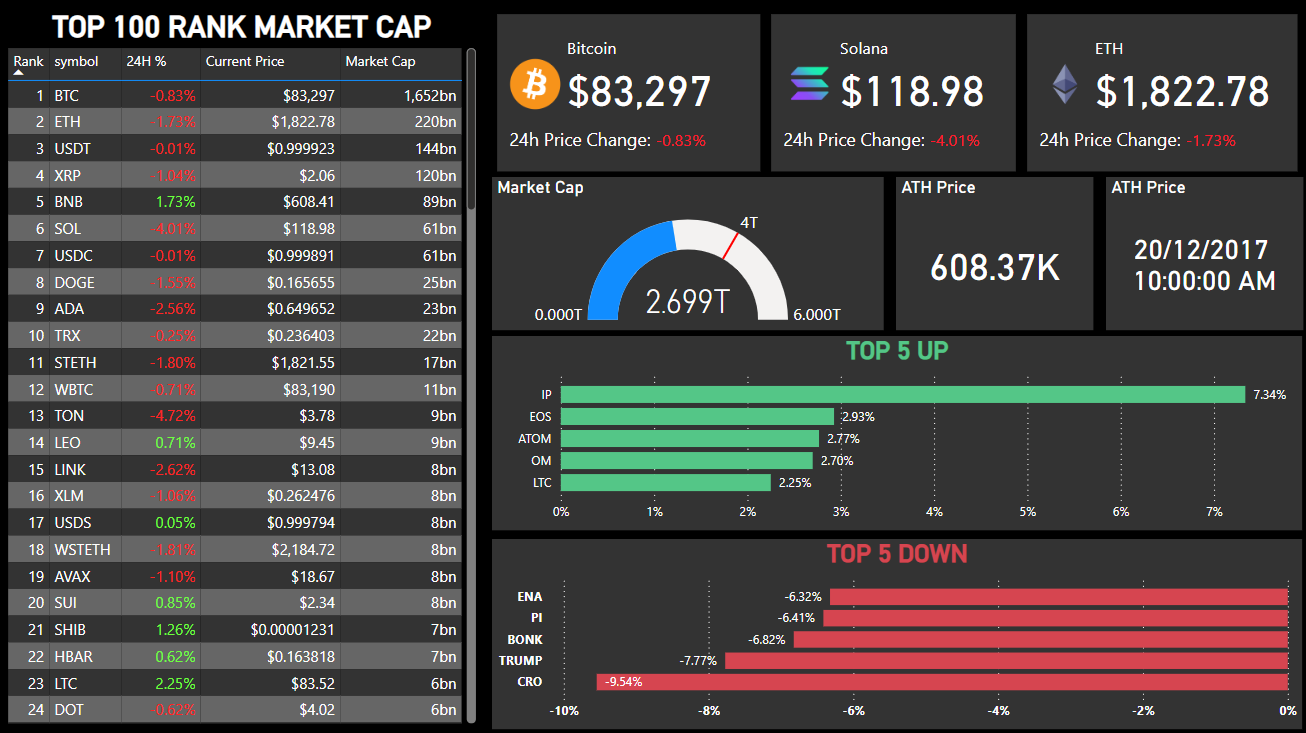

Layout of this report page (visuals, bound fields, positions):
{"tool":"powerbi","page":{"name":"Market","canvas":[1280,720],"ordinal":0},"visuals":[{"type":"tableEx","title":"TOP 100 RANK MARKET CAP","fields":{"Values":["Sum(CryptoMarket USD.rank)","CryptoMarket USD.symbol","CryptoMarket USD.24 price change percentage","Sum(CryptoMarket USD.current_price)","Sum(CryptoMarket USD.market_cap)"]},"box":[6.8,8.8,465.9,700.3],"z":0},{"type":"cardVisual","fields":{"Data":["Sum(CryptoMarket USD.current_price)"]},"box":[483.4,8.8,266.5,163.4],"z":1000},{"type":"barChart","title":"TOP 5 DOWN","fields":{"Category":["CryptoMarket USD.symbol"],"Y":["Sum(CryptoMarket USD.24 price change percentage)"]},"box":[483.6,524.5,788.2,185.1],"z":2000},{"type":"cardVisual","fields":{"Data":["Sum(CryptoMarket USD.current_price)"]},"box":[998.9,8.8,273.3,163.4],"z":3000},{"type":"cardVisual","fields":{"Data":["Sum(CryptoMarket USD.current_price)"]},"box":[749.9,8.8,249,163.4],"z":4000},{"type":"barChart","title":"TOP 5 UP","fields":{"Category":["CryptoMarket USD.symbol"],"Y":["Sum(CryptoMarket USD.24 price change percentage)"]},"box":[483.6,327.2,788.2,189.1],"z":5000},{"type":"gauge","title":"Market Cap","fields":{"Y":["Sum(CryptoMarket USD.Market Cap)"]},"box":[483.4,172.2,381.3,148.8],"z":6000},{"type":"card","title":"ATH Price","fields":{"Values":["Sum(CryptoMarket USD.ath)"]},"box":[876.4,172.2,191.6,148.8],"z":7000},{"type":"card","title":"ATH Price","fields":{"Values":["Min(CryptoMarket USD.ath_date)"]},"box":[1080.6,172.2,191.6,148.8],"z":8000}]}

Visuals, with their boxes in screenshot pixels (x1, y1, x2, y2), scaled from the page's 1280x720 canvas onto the 1306x733 screenshot:
"TOP 100 RANK MARKET CAP" tableEx: <bbox>7, 9, 482, 722</bbox>
cardVisual - Sum(CryptoMarket USD.current_price): <bbox>493, 9, 765, 175</bbox>
"TOP 5 DOWN" barChart: <bbox>493, 534, 1298, 722</bbox>
cardVisual - Sum(CryptoMarket USD.current_price): <bbox>1019, 9, 1298, 175</bbox>
cardVisual - Sum(CryptoMarket USD.current_price): <bbox>765, 9, 1019, 175</bbox>
"TOP 5 UP" barChart: <bbox>493, 333, 1298, 526</bbox>
"Market Cap" gauge: <bbox>493, 175, 882, 327</bbox>
"ATH Price" card: <bbox>894, 175, 1090, 327</bbox>
"ATH Price" card: <bbox>1103, 175, 1298, 327</bbox>
